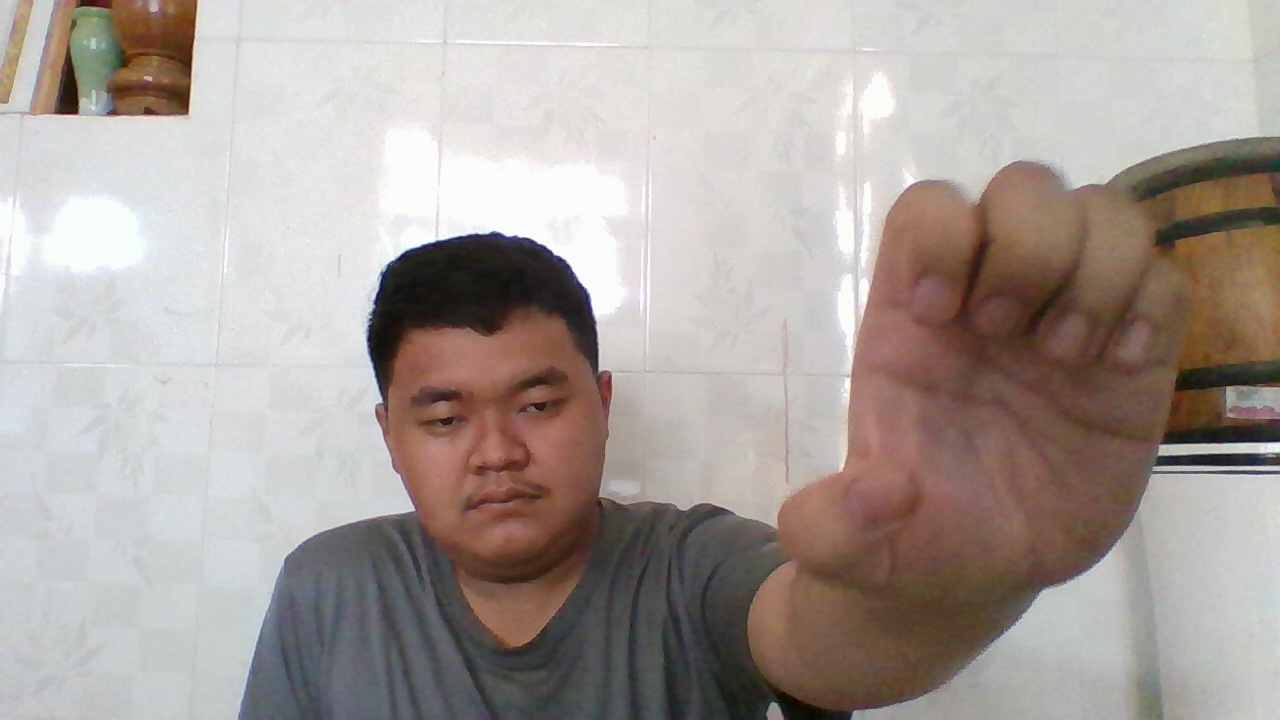E: (799, 167, 1184, 597)
